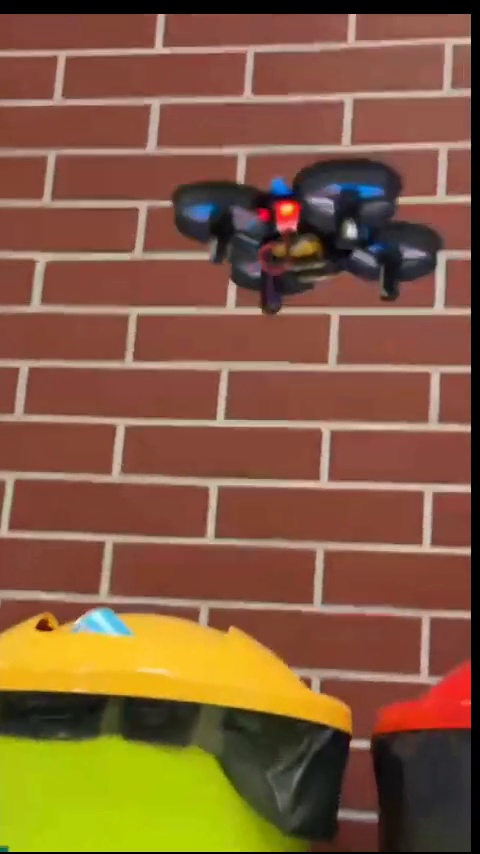drone: (169, 158, 444, 307)
